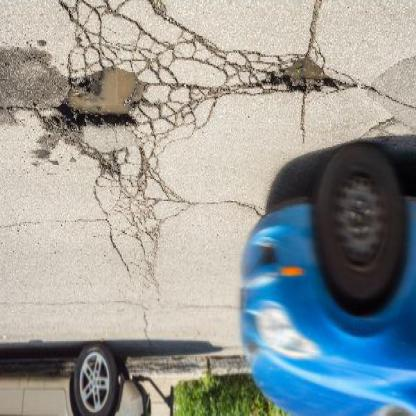pothole: (59, 69, 149, 144), (266, 55, 334, 98)
